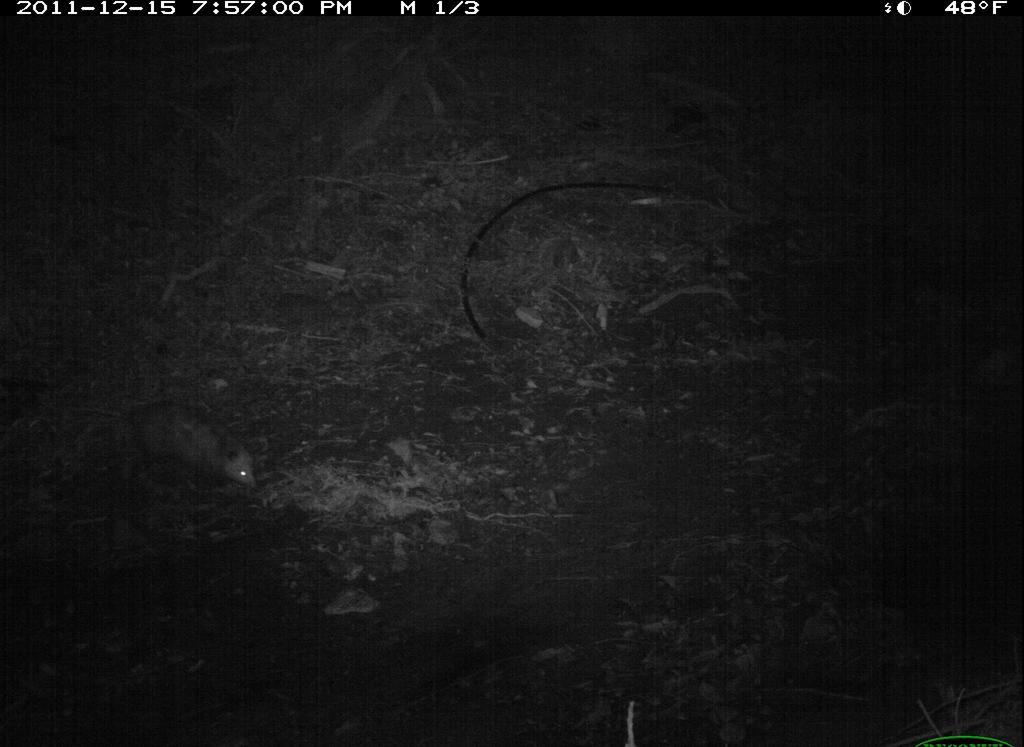opossum: (114, 401, 264, 506)
